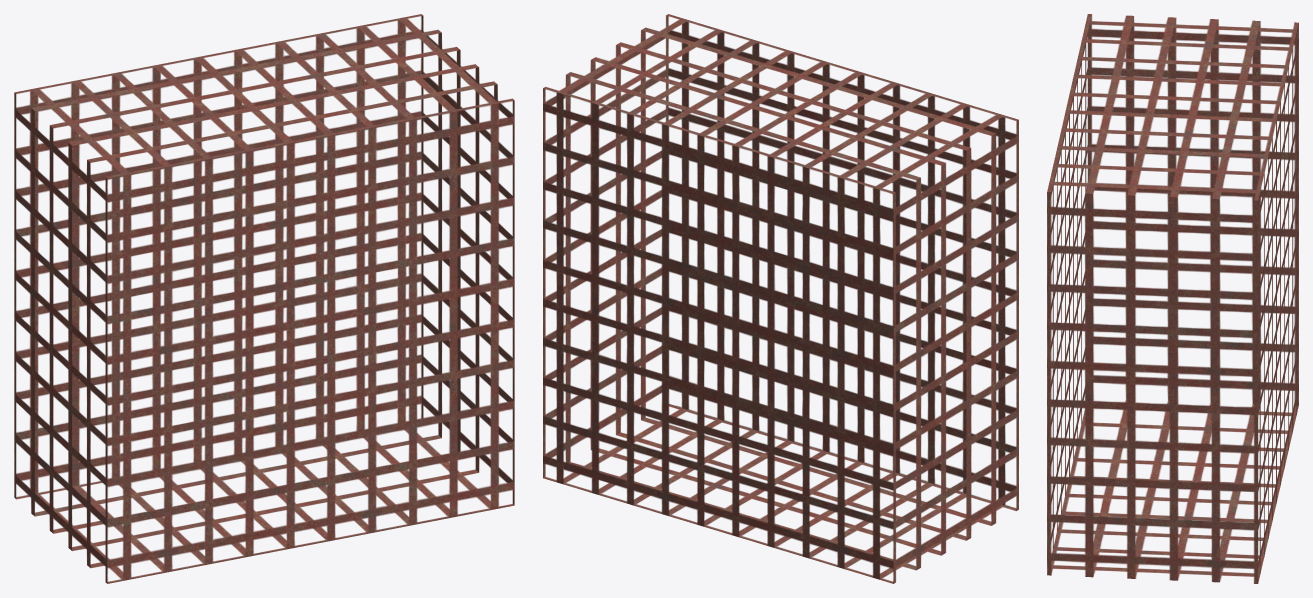
The model's file is cage_tall_wide.glb.
3 views of the same model, side by side, from view 1: azimuth 30°, elevation 25°; view 2: azimuth 150°, elevation 25°; view 3: azimuth 270°, elevation 25° (orthographic). The views are drawn at different scales.
Parts seen in each view (by area): view 1: cage_tall_wide_Baked; view 2: cage_tall_wide_Baked; view 3: cage_tall_wide_Baked.
Boxes of the visible parts, x1,y1,x2,y2 form: cage_tall_wide_Baked: [14, 14, 514, 583]; cage_tall_wide_Baked: [543, 14, 1018, 583]; cage_tall_wide_Baked: [1047, 14, 1298, 583].
Size of the model in its own units: 2.08 by 1.99 by 1.19.
Materials: 1 (1 with a texture image).
